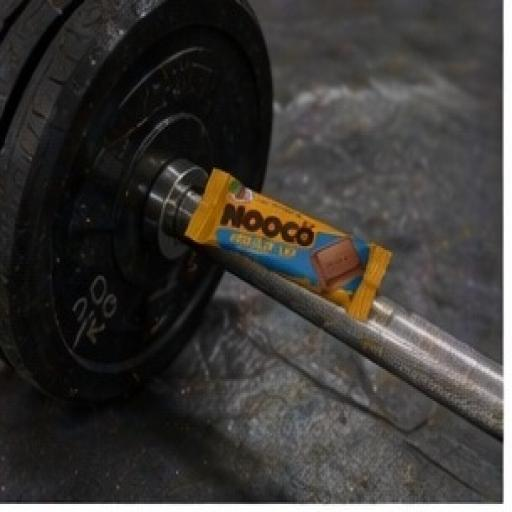biscuit-detection: (153, 105, 426, 369)
